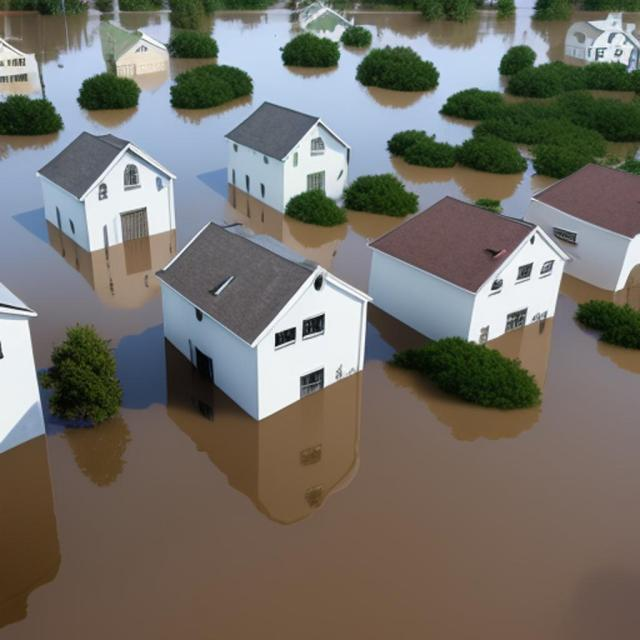flood: (0, 2, 640, 640)
house: (162, 213, 371, 438), (367, 190, 572, 358), (39, 128, 179, 258), (534, 155, 640, 298), (220, 100, 352, 211), (0, 279, 50, 456), (104, 29, 174, 88), (564, 13, 640, 63), (0, 33, 35, 103)
